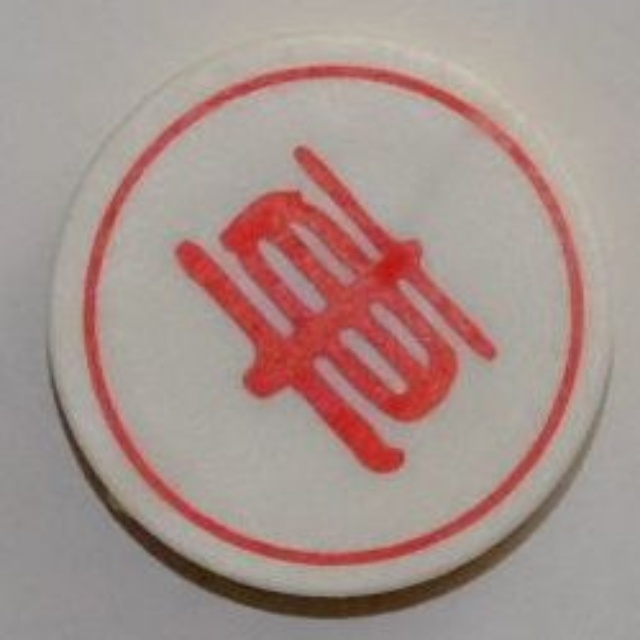red_xe: (57, 31, 631, 601)
